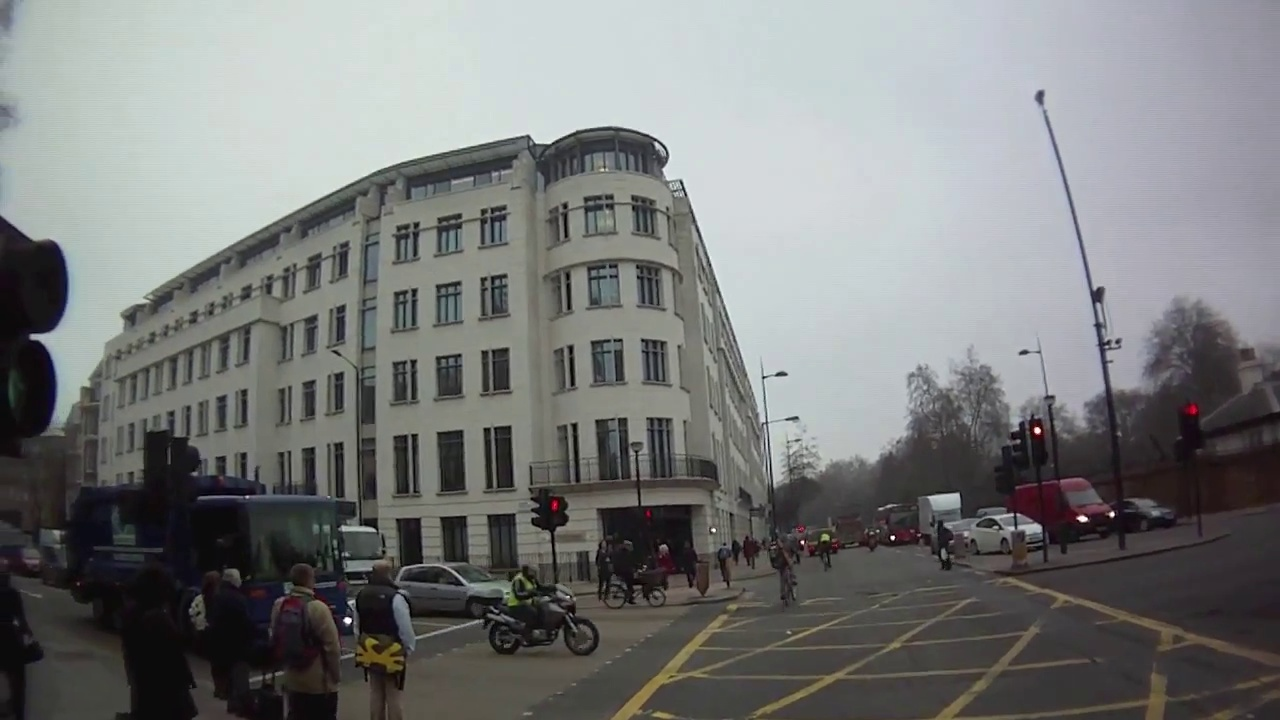cyclist_back: (768, 535, 801, 608), (817, 529, 836, 577)
cyclist_side: (484, 566, 599, 660), (599, 542, 669, 612)
